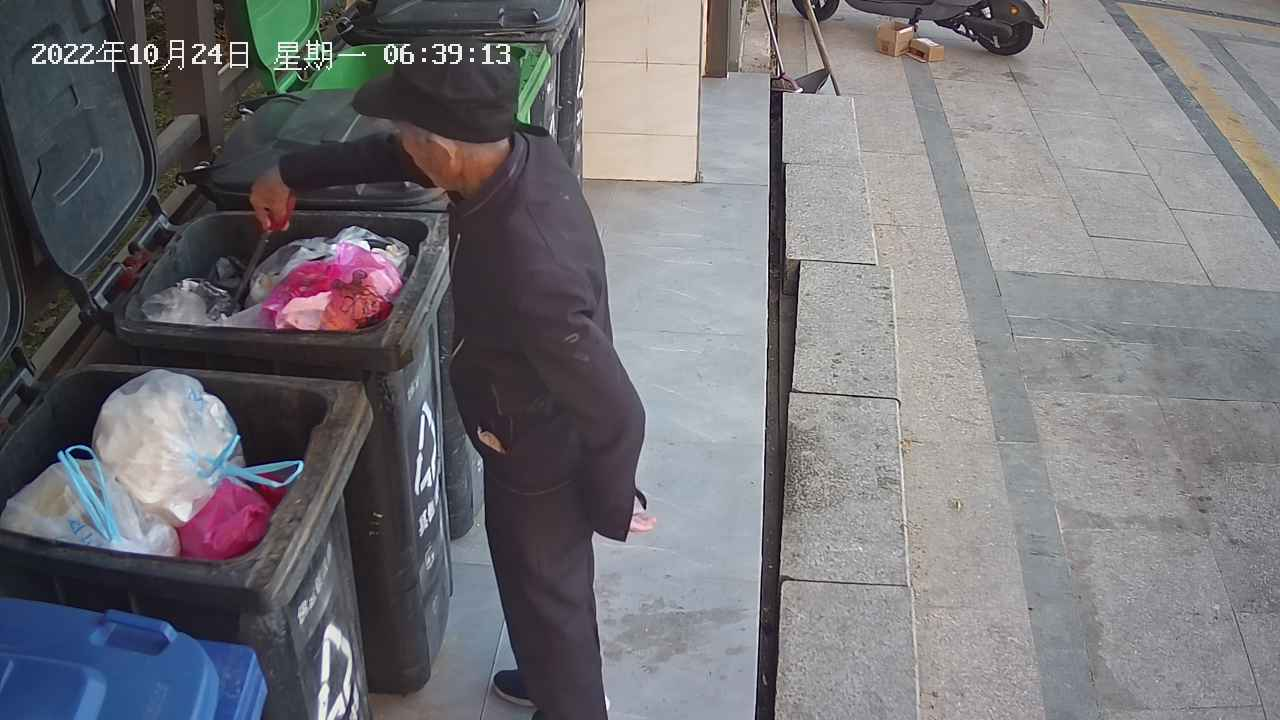person: (241, 31, 662, 720)
